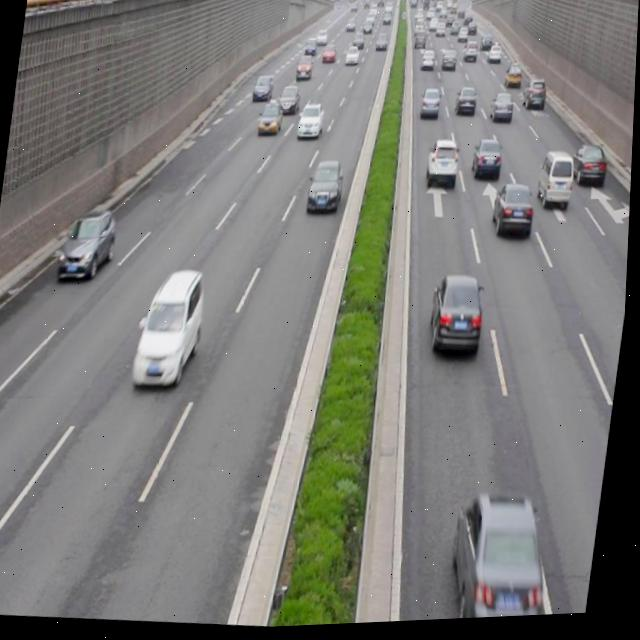car: (448, 490, 558, 624), (134, 266, 210, 390), (426, 273, 490, 359), (59, 208, 121, 284), (489, 184, 537, 243), (307, 160, 346, 218), (424, 139, 462, 191), (571, 144, 609, 193), (470, 139, 505, 186), (296, 102, 324, 143), (257, 101, 285, 137), (489, 94, 516, 129), (419, 87, 444, 123), (454, 87, 478, 122), (277, 84, 301, 117), (252, 74, 275, 105)
truck: (535, 151, 576, 215)
